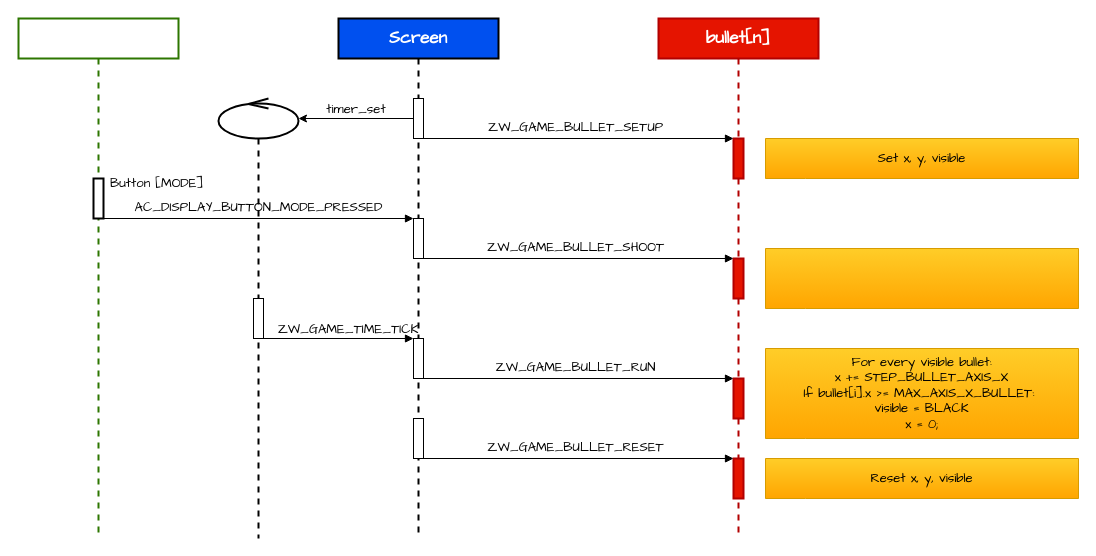
This 1096x556 diagram has some shape labels left out. Each missing label, with the centre of its shape:
"100ms" belongs at pixel 258 318.
"bullet[i].visible = WHITE bullet[i].x = gunner.x + 2 bullet[i].y = gunner.y - 8" belongs at pixel 921 278.
